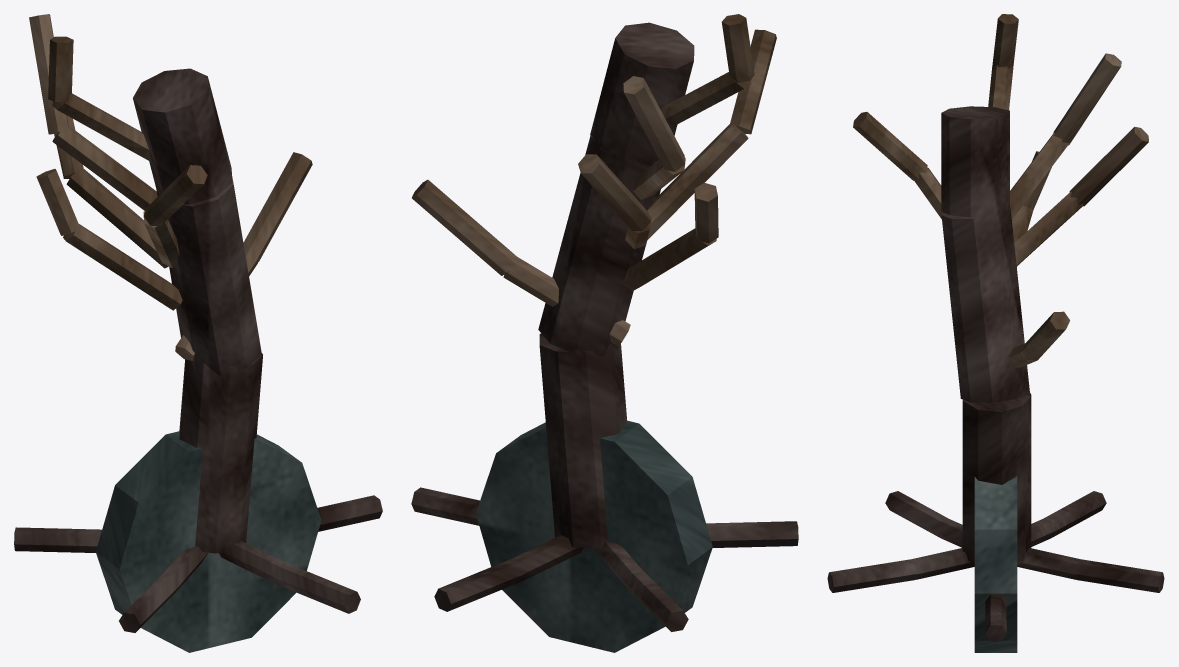
The model's file is 0139_dead_tree_14.glb.
3 renders of one model, left to right at view 1: azimuth 30°, elevation 25°; view 2: azimuth 150°, elevation 25°; view 3: azimuth 270°, elevation 25°, orthographic. The views are drawn at different scales.
Visible parts, largest first — view 1: wood_dark, stone_dark, wood; view 2: wood_dark, stone_dark, wood; view 3: wood_dark, wood, stone_dark.
Boxes of the visible parts, x1,y1,x2,y2 form: wood_dark: (14,68,382,632); stone_dark: (96,431,321,652); wood: (29,14,312,360); wood_dark: (411,22,798,631); stone_dark: (476,420,712,652); wood: (412,14,776,345); wood_dark: (827,106,1164,641); wood: (853,14,1148,367); stone_dark: (974,476,1017,652).
Bounding box in the file's own units: 1.73 × 3.2 × 1.75.
Materials: 3 (3 with a texture image).
